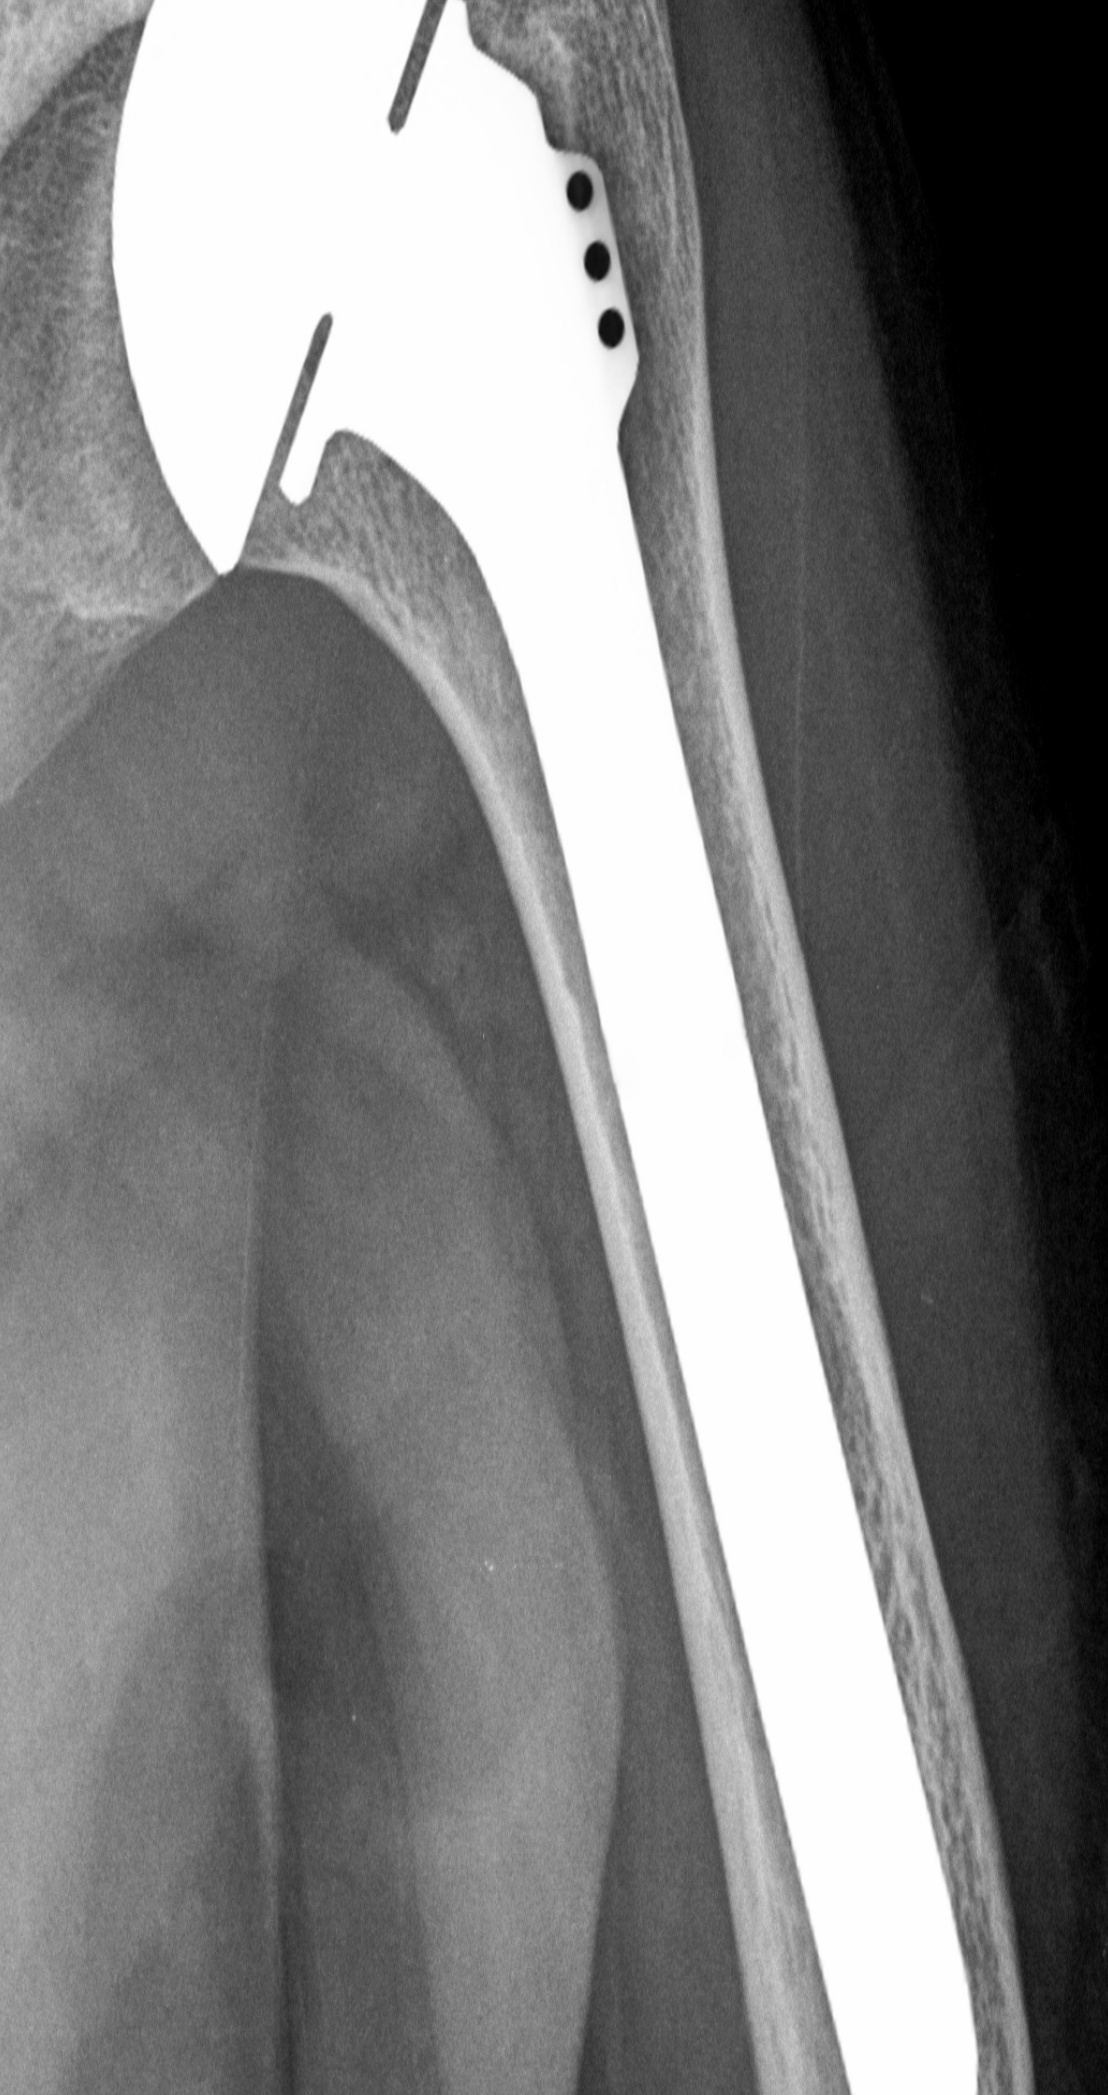Shoulder-Olympia-Wright: (89, 1, 988, 2095)
